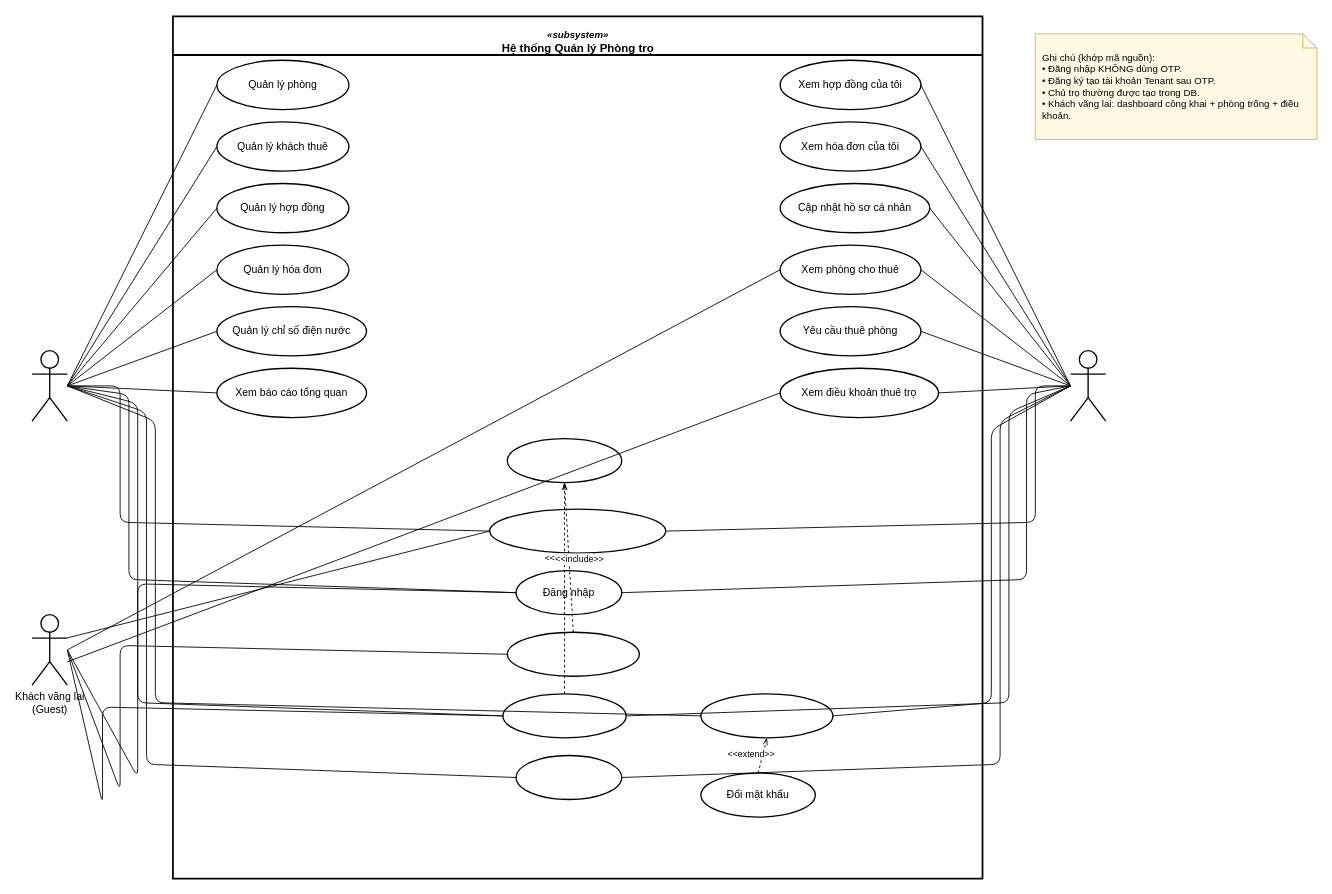
Some shapes in this 1332 by 894 pixel diagram are drawn without their labels. The shapes that lost their labels are listed below. From the top down, each one's centre as x and y in pixels, then its label:
the point at 49,385: Chủ trọ (Landlord)
the point at 1087,385: Khách thuê (Tenant)
the point at 564,460: Xác thực OTP
the point at 577,530: Xem trang chủ (Dashboard)
the point at 573,654: Đăng ký (Tenant)
the point at 564,715: Quên mật khẩu
the point at 766,715: Thông tin cá nhân
the point at 568,777: Đăng xuất
